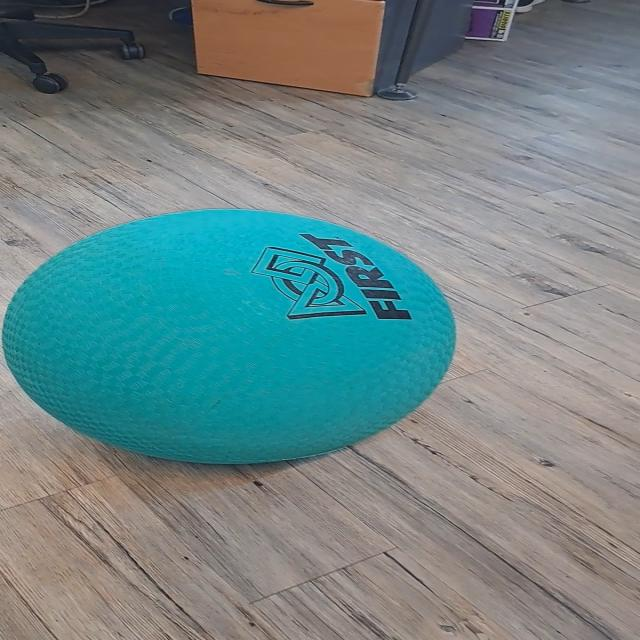ALGAE: (2, 207, 458, 466)
